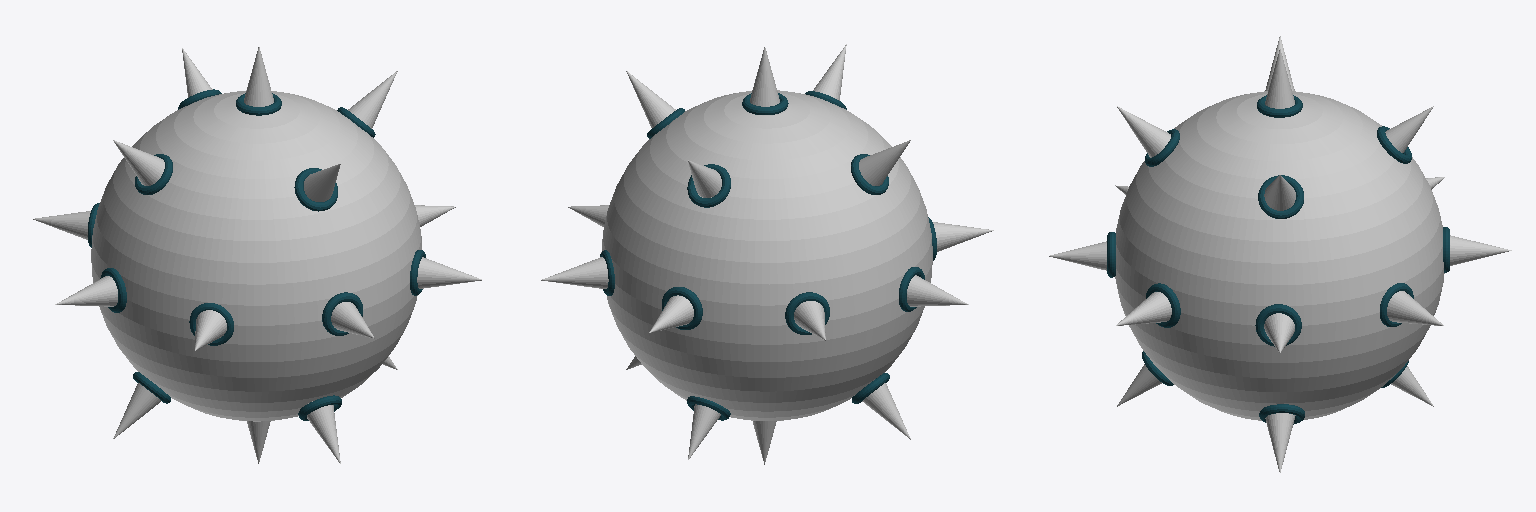
3 renders of one model, left to right at view 1: azimuth 30°, elevation 25°; view 2: azimuth 150°, elevation 25°; view 3: azimuth 270°, elevation 25°, orthographic.
Parts seen in each view (by area): view 1: near_death_star, Cone.006, Cone.009, Cone.014, Cone.001, Cone.013, Cone.015, Cone.018, Cone.007, Cone.004, Cone.011, Cone.008 (+5 smaller); view 2: near_death_star, Cone.010, Cone.014, Cone.006, Cone.001, Cone.013, Cone.003, Cone.015, Cone.007, Cone.008, Cone.017, Cone.012 (+6 smaller); view 3: near_death_star, Cone.010, Cone.009, Cone.011, Cone.001, Cone.003, Cone.016, Cone.004, Cone.012, Cone.005, Torus.016, Cone.013 (+4 smaller).
Part boxes in pixels (x1,y1,x2,y2): near_death_star: (91,90,421,421); Cone.006: (55,276,117,306); Cone.009: (417,257,481,288); Cone.014: (113,140,164,185); Cone.001: (244,47,273,106); Cone.013: (348,71,397,128); Cone.015: (113,383,160,438); Cone.018: (307,401,340,463); Cone.007: (195,310,226,350); Cone.004: (331,302,374,338); Cone.011: (304,164,340,201); Cone.008: (33,211,90,239); near_death_star: (601,90,932,420); Cone.010: (541,257,608,288); Cone.014: (859,140,910,185); Cone.006: (907,275,968,306); Cone.001: (750,47,779,106); Cone.013: (626,71,675,127); Cone.003: (649,295,693,332); Cone.015: (862,383,910,439); Cone.007: (933,222,993,251); Cone.008: (794,301,825,340); Cone.017: (688,404,720,459); Cone.012: (688,160,721,197); near_death_star: (1115,91,1444,420); Cone.010: (1387,291,1443,325); Cone.009: (1116,292,1171,325); Cone.011: (1117,106,1170,157); Cone.001: (1265,49,1294,108); Cone.003: (1450,235,1511,265); Cone.016: (1265,413,1295,472); Cone.004: (1049,241,1106,270); Cone.012: (1385,106,1433,152); Cone.005: (1264,313,1294,352); Torus.016: (1258,175,1303,218); Cone.013: (1264,175,1295,210).
Size of the model in its own units: 280 by 279 by 280.
Materials: 3 (1 with a texture image).